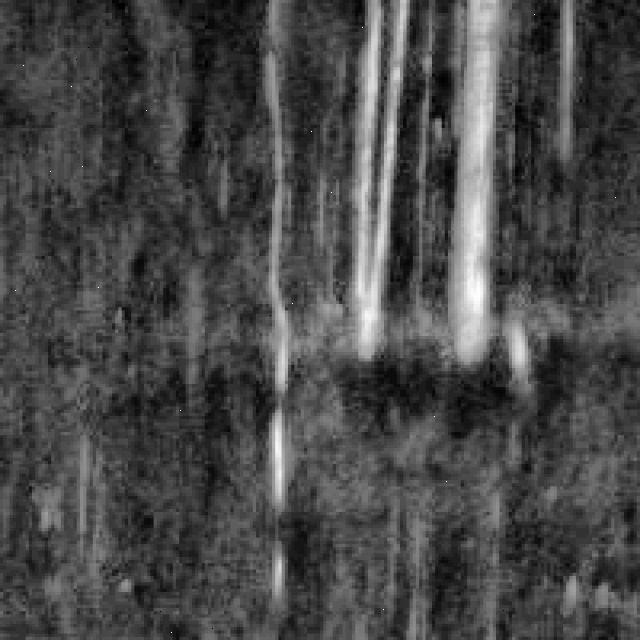Inclusion: (333, 0, 429, 355), (448, 0, 525, 368), (250, 48, 294, 614)
